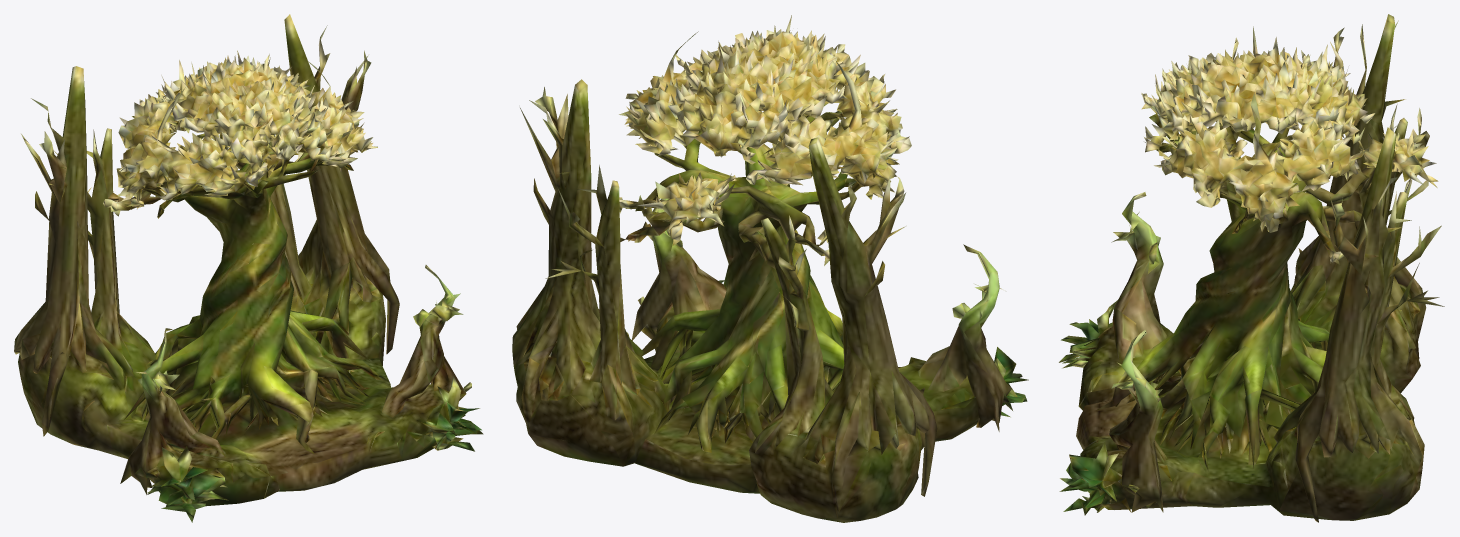
Rendered from mini_gd06.glb.
3 renders of one model, left to right at view 1: azimuth 30°, elevation 25°; view 2: azimuth 150°, elevation 25°; view 3: azimuth 270°, elevation 25°, orthographic. The views are drawn at different scales.
Parts seen in each view (by area): view 1: Mesh_0; view 2: Mesh_0; view 3: Mesh_0.
Part boxes in pixels (x1=…): Mesh_0: x1=14, y1=14, x2=483, y2=522; Mesh_0: x1=512, y1=15, x2=1028, y2=522; Mesh_0: x1=1059, y1=14, x2=1444, y2=522.
Size of the model in its own units: 1.86 by 1.77 by 1.59.
Materials: 1 (1 with a texture image).
